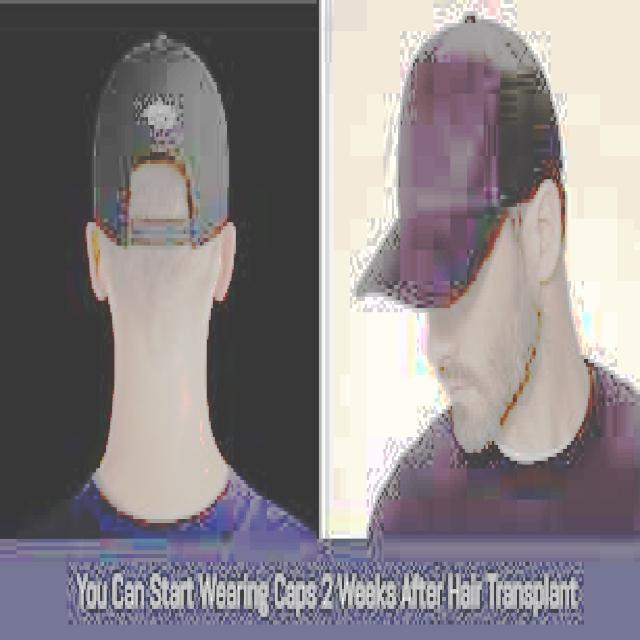TOPI: (348, 4, 563, 312), (84, 19, 230, 246)
